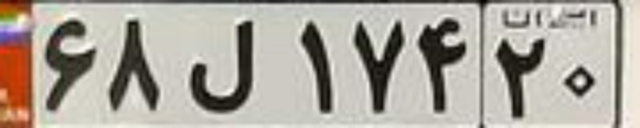0: (558, 63, 602, 98)
1: (294, 19, 332, 113)
2: (496, 35, 544, 117)
4: (416, 16, 464, 113)
6: (40, 17, 98, 111)
7: (352, 18, 408, 113)
8: (107, 19, 163, 111)
lam: (183, 17, 256, 114)
